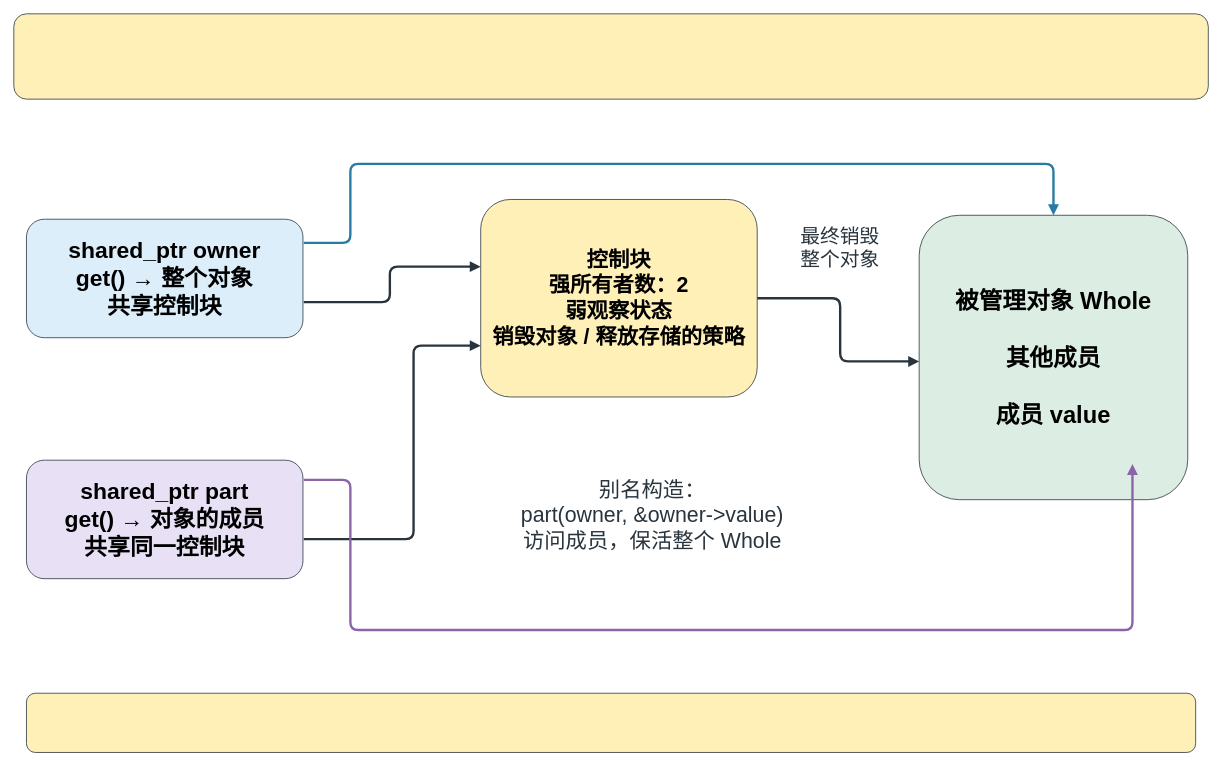
The diagram is 1222 pixels wide and 766 high, and some of its shapes have lost their labels. Each missing label, with the box of its shape:
02｜两个地址，两项职责: (13, 13, 1208, 99)
get() 决定访问哪里；所有权组决定最后清理什么。: (26, 692, 1196, 752)
